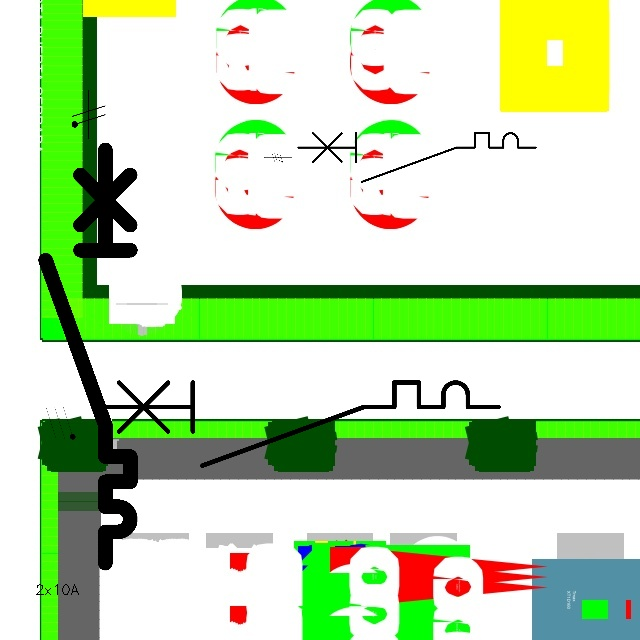interruptor_termomagnetico: (35, 139, 141, 574), (84, 372, 509, 476), (292, 127, 541, 188)
